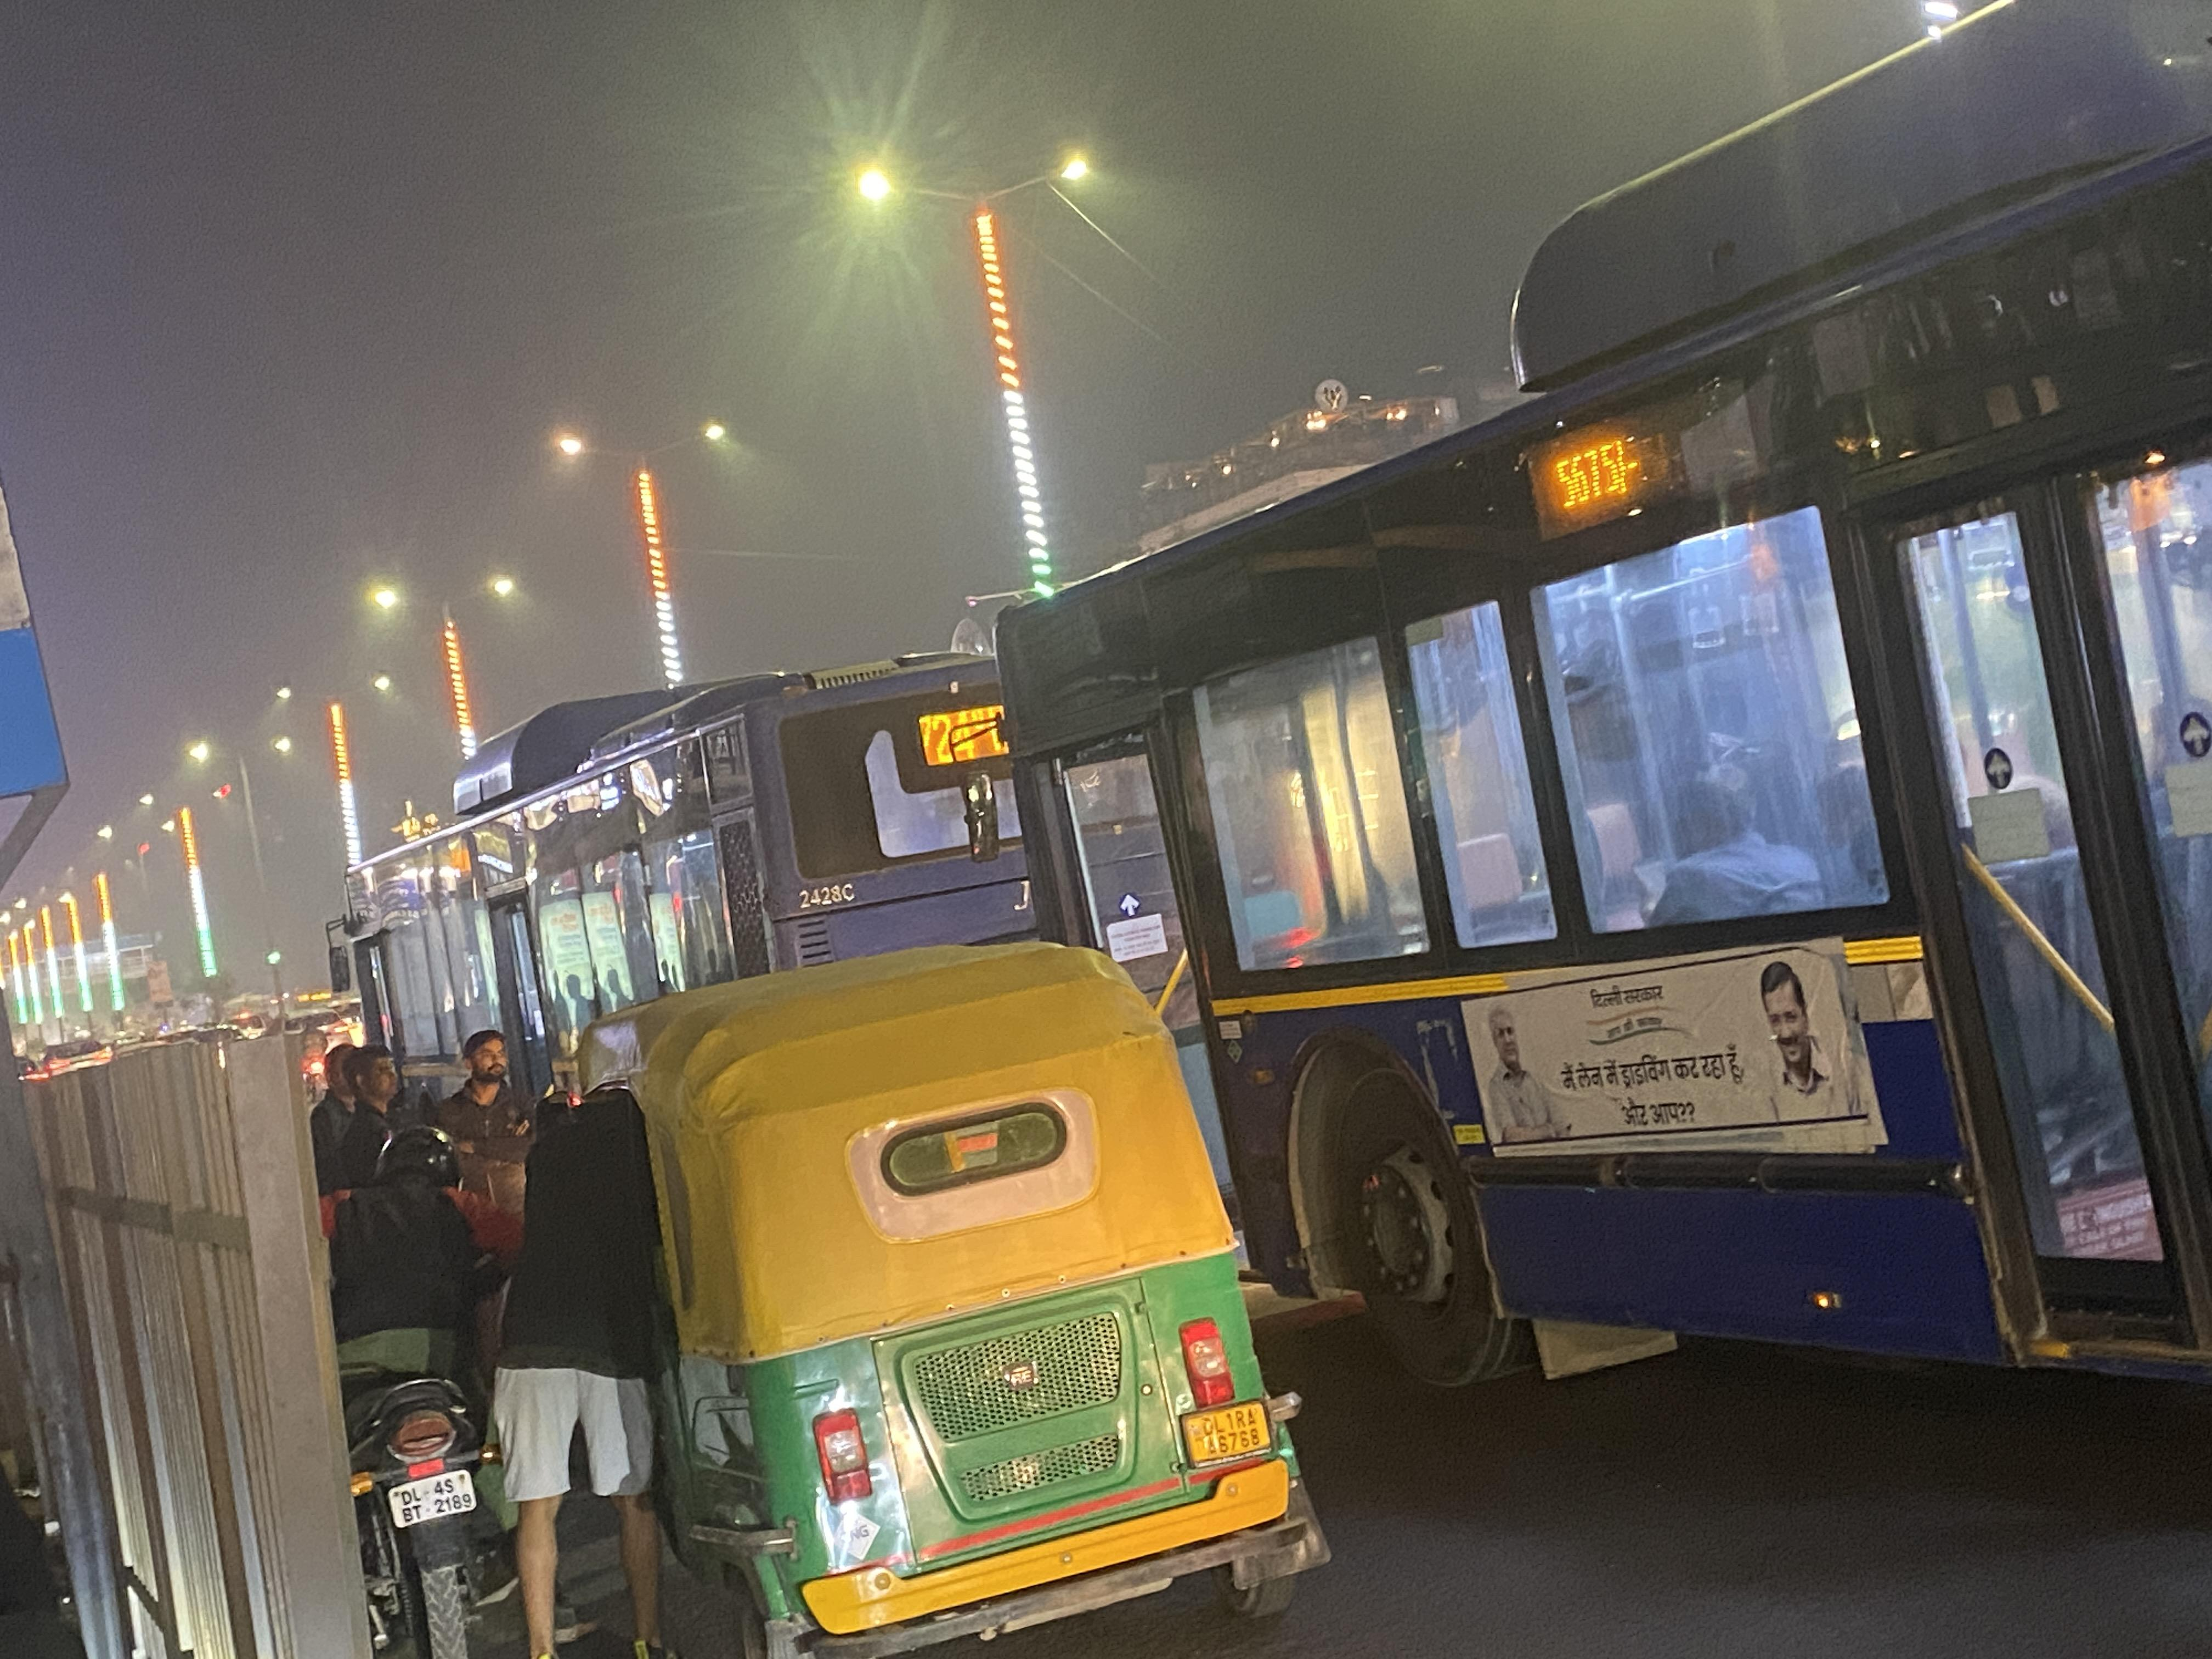Bus: (1082, 319, 2202, 1317), (301, 636, 1202, 1108)
Display Board: (1519, 373, 1804, 565), (862, 680, 1082, 779)
